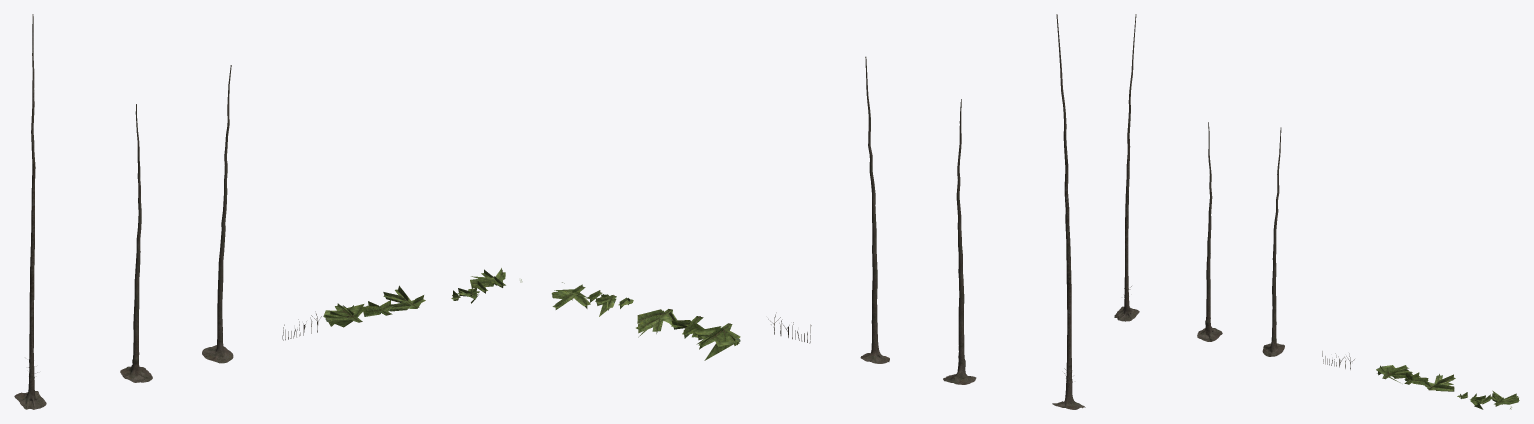
Rendered from field_fir_a_lod1.glb.
The picture shows the model from 3 angles, left to right: view 1: azimuth 30°, elevation 25°; view 2: azimuth 150°, elevation 25°; view 3: azimuth 330°, elevation 25°; orthographic projection. The views are drawn at different scales.
Parts seen in each view (by area): view 1: bark_lod1, foliage_lod1; view 2: bark_lod1, foliage_lod1; view 3: bark_lod1, foliage_lod1.
Part boxes in pixels (box(x1,y1,x2,y2)): bark_lod1: box(14, 14, 321, 409); foliage_lod1: box(323, 268, 522, 327); bark_lod1: box(768, 14, 1085, 409); foliage_lod1: box(551, 282, 740, 360); bark_lod1: box(1114, 14, 1354, 369); foliage_lod1: box(1376, 365, 1519, 409).
Size of the model in its own units: 24.02 by 18.46 by 2.77.
2 materials, 2 textured.
